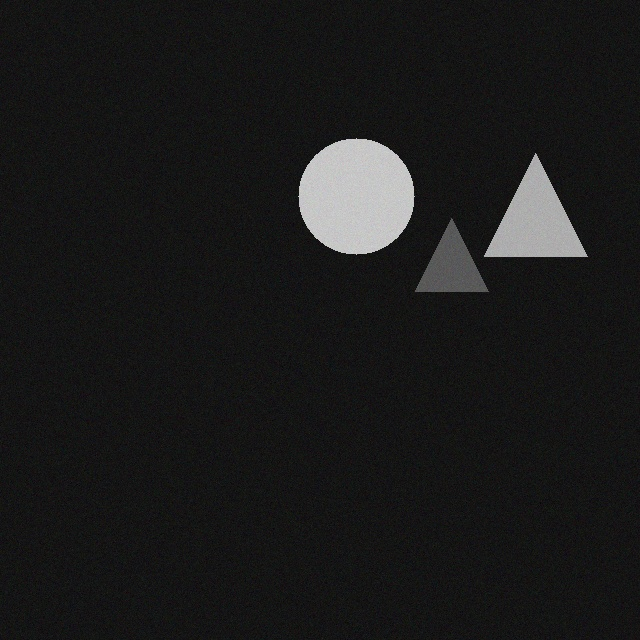circle: (297, 137, 413, 253)
triangle: (483, 152, 586, 255), (414, 217, 487, 290)
